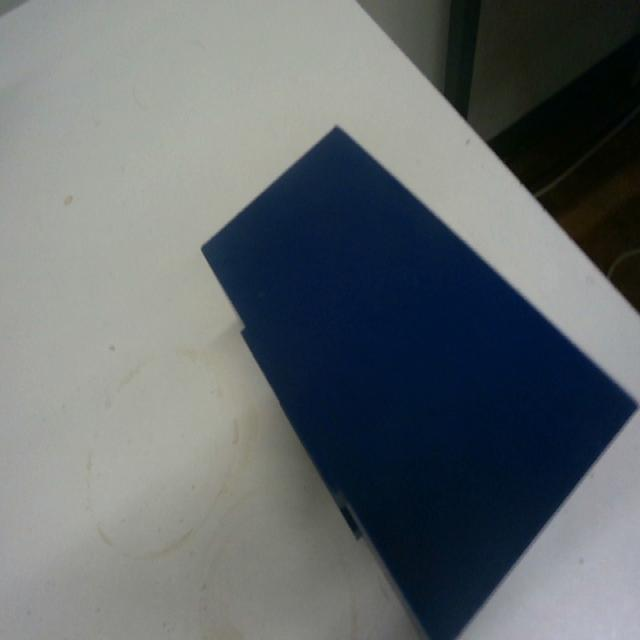Blue Cuboid: (198, 121, 639, 639)
